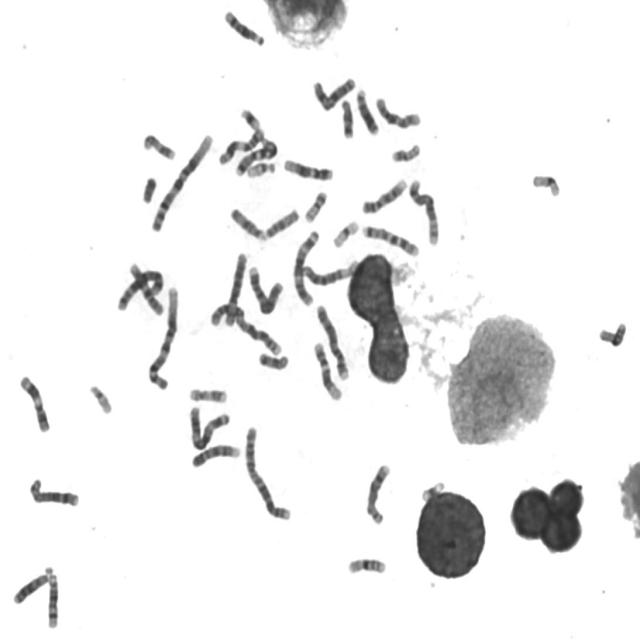A1: (148, 130, 214, 234), (145, 282, 181, 392)
A2: (242, 423, 293, 522), (207, 299, 283, 357)
A3: (290, 227, 321, 308), (186, 402, 232, 452)
B4: (314, 300, 351, 382), (246, 262, 285, 316)
B5: (112, 268, 177, 316), (407, 175, 441, 247)
C10: (126, 260, 166, 317), (373, 93, 423, 131)
C11: (17, 372, 51, 434), (216, 125, 265, 167)
C12: (311, 339, 344, 402), (280, 156, 334, 182)
C6: (221, 248, 249, 328), (299, 257, 360, 288)
C7: (359, 222, 421, 258), (233, 134, 279, 178)
C8: (362, 460, 392, 526), (27, 474, 81, 509)
C9: (359, 175, 408, 216), (189, 441, 242, 469)
D13: (10, 569, 51, 606), (354, 85, 381, 137)
D14: (222, 7, 266, 48), (44, 564, 60, 631)
D15: (228, 204, 266, 242), (262, 205, 300, 241)
E16: (596, 314, 635, 348), (344, 554, 388, 576)
E17: (140, 130, 177, 162), (186, 384, 228, 404)
E18: (338, 96, 355, 140), (256, 350, 290, 371)
F19: (330, 217, 360, 249), (530, 170, 562, 198)
F20: (302, 188, 329, 225), (388, 140, 422, 164)
G21: (238, 105, 263, 132), (419, 478, 446, 503)
G22: (86, 381, 114, 416), (244, 159, 277, 179)
X: (310, 73, 358, 113)
Y: (139, 173, 159, 204)
